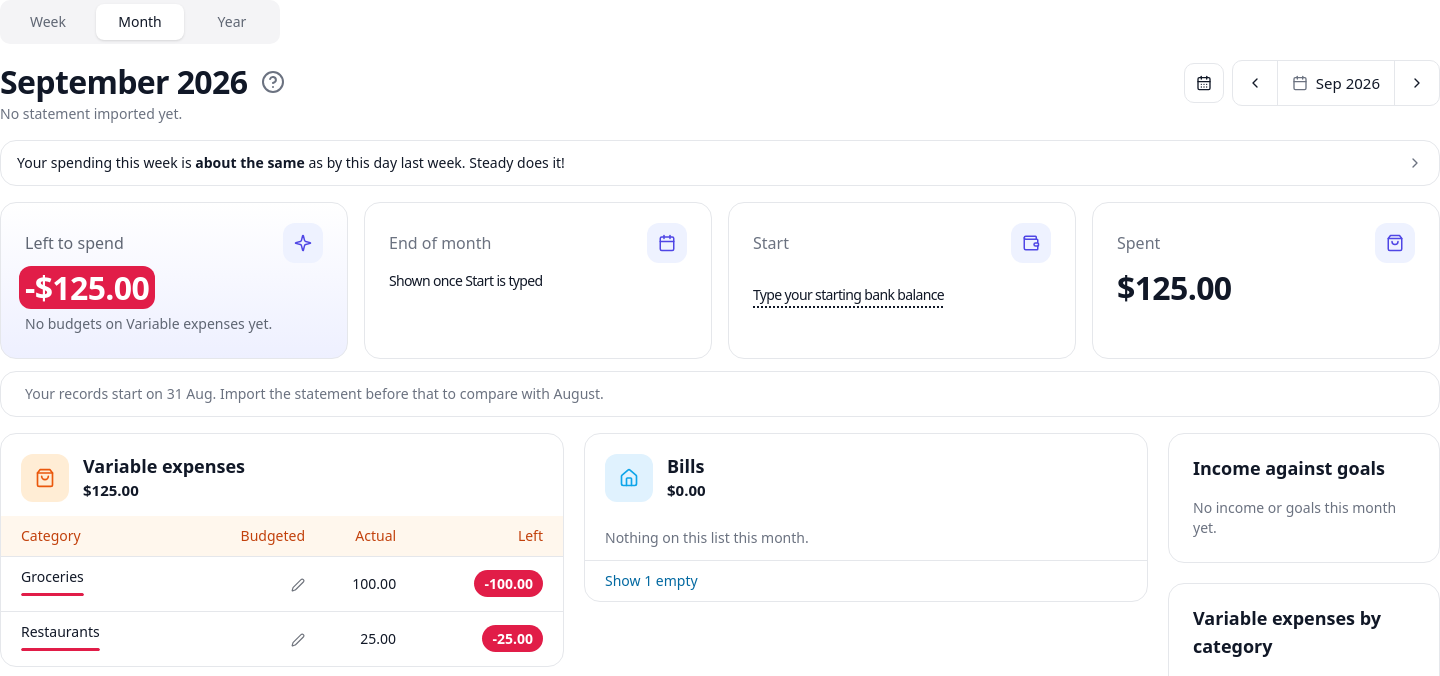
Scenario: Month row charges › shows a shop name written as markup as text, never as markup
Expected: the column heading "Groceries" is shown, [1,556,182,611]
Click the button "Groceries" at (52, 581), box [21,567,84,596]
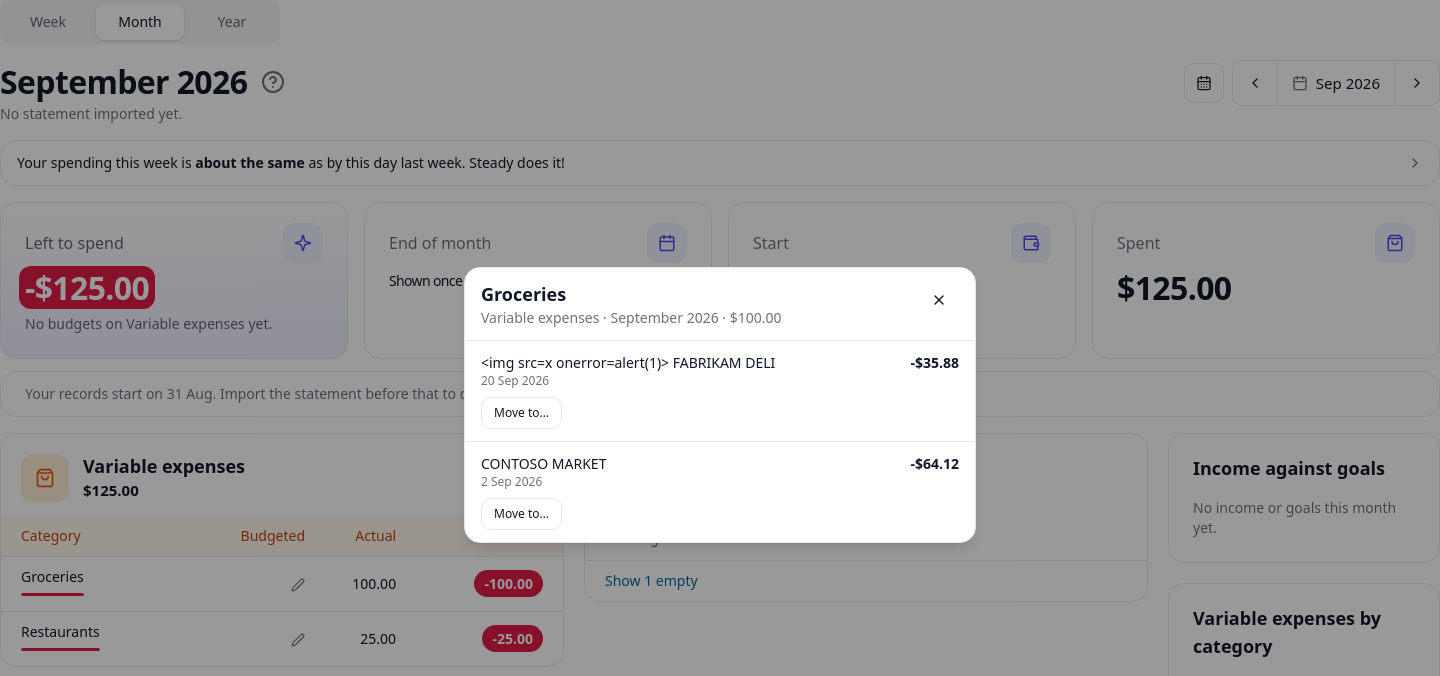
Now the text "<img src=x onerror=alert(1)> FABRIKAM DELI" is shown, box [481,353,775,372]
